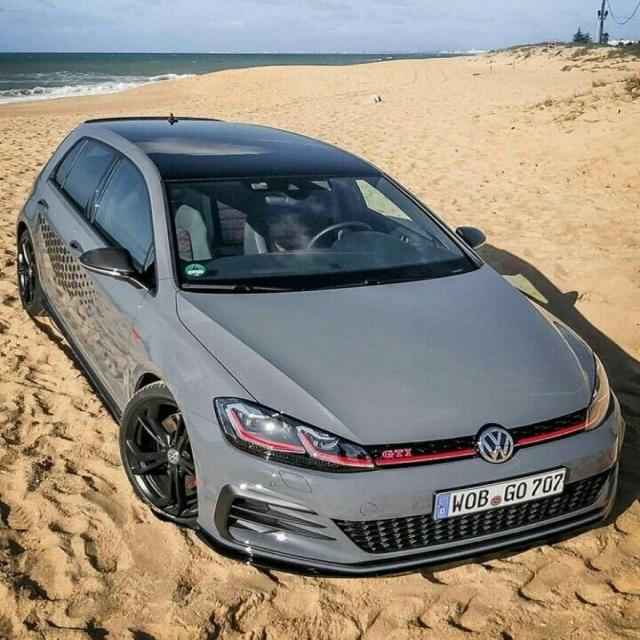Placas: (433, 468, 566, 520)
